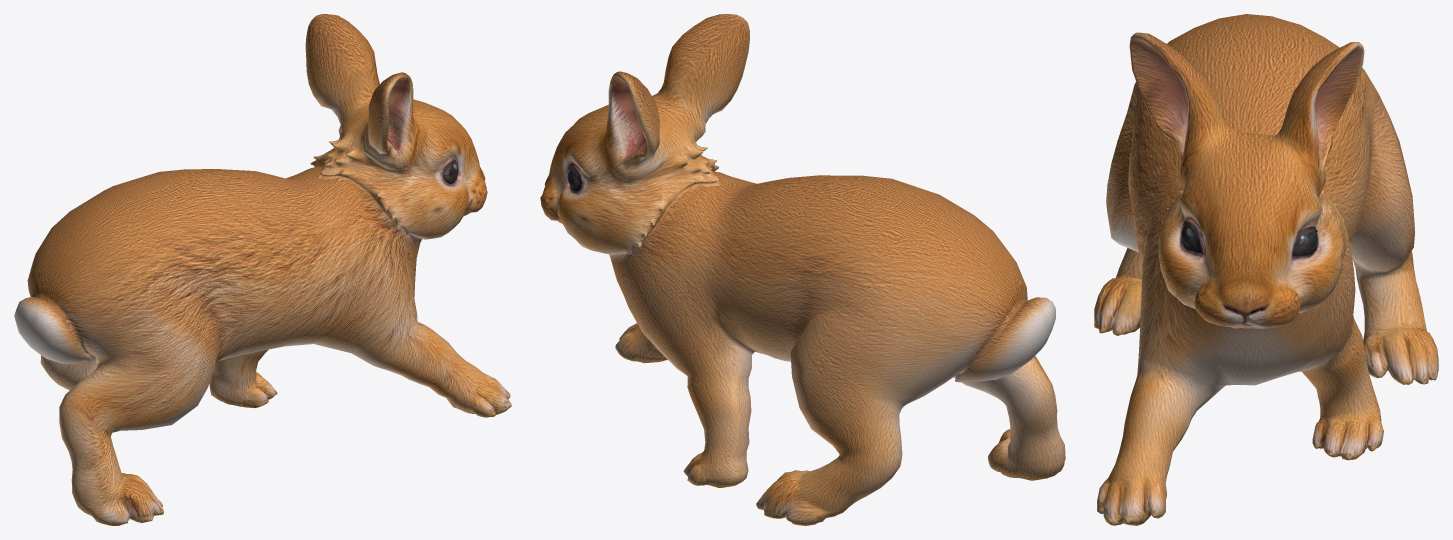
Rendered from rabbit.glb.
3 views of the same model, side by side, from view 1: azimuth 30°, elevation 25°; view 2: azimuth 150°, elevation 25°; view 3: azimuth 270°, elevation 25° (orthographic). The views are drawn at different scales.
Visible parts, largest first — view 1: Model_0; view 2: Model_0; view 3: Model_0.
Part boxes in pixels (x1,y1,x2,y2): Model_0: (14,14,511,525); Model_0: (540,14,1065,525); Model_0: (1094,14,1438,525).
Bounding box in the file's own units: 1 × 0.7612 × 0.5186.
1 material, 1 textured.
